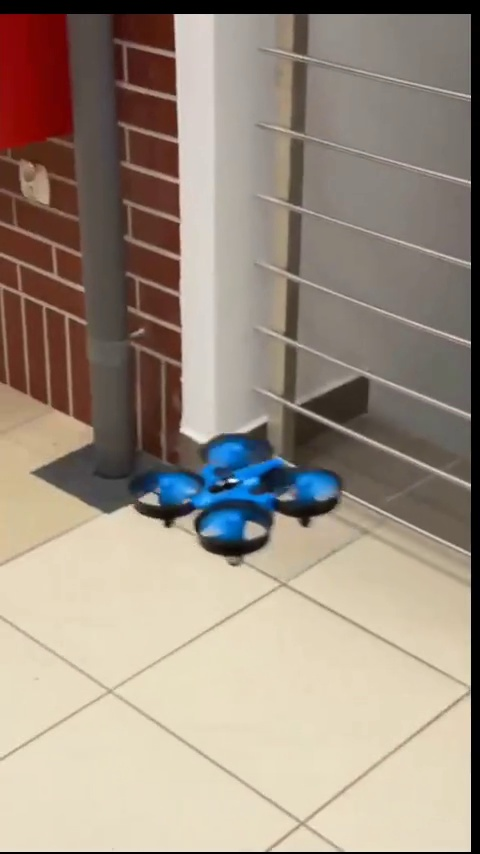drone: (132, 434, 347, 565)
